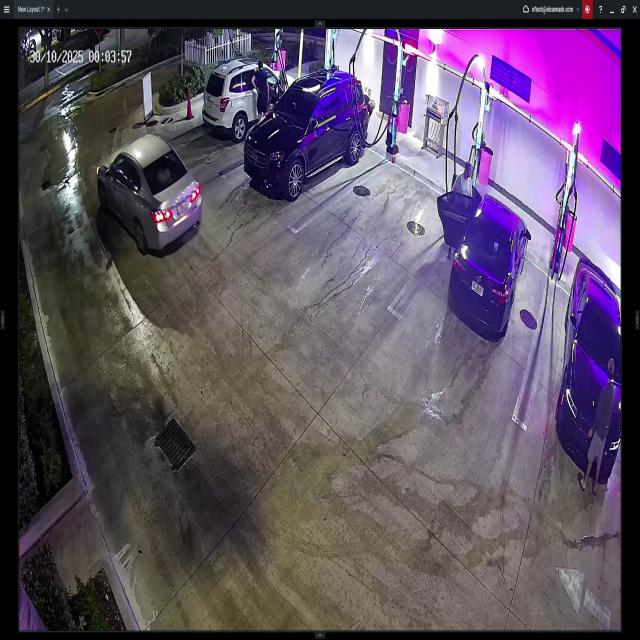Car: (243, 68, 369, 194), (556, 255, 621, 475), (441, 181, 531, 332), (96, 135, 202, 254), (203, 58, 293, 138)
